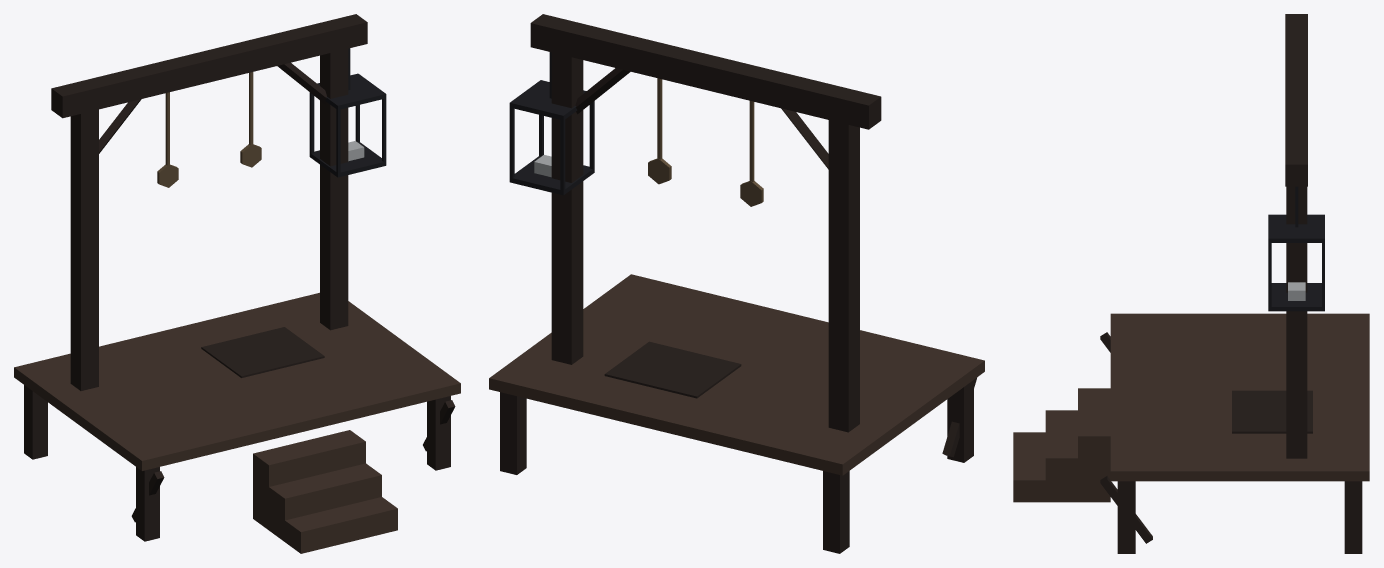
File: gothic_gallows.glb
The picture shows the model from 3 angles, left to right: view 1: azimuth 30°, elevation 25°; view 2: azimuth 150°, elevation 25°; view 3: azimuth 270°, elevation 25°; orthographic projection. The views are drawn at different scales.
Parts seen in each view (by area): view 1: gothic_gallows; view 2: gothic_gallows; view 3: gothic_gallows.
Part boxes in pixels (bbox=[...]): gothic_gallows: bbox=[14, 14, 460, 553]; gothic_gallows: bbox=[489, 14, 984, 553]; gothic_gallows: bbox=[1013, 14, 1369, 553].
Size of the model in its own units: 4.65 by 5.3 by 4.4.
